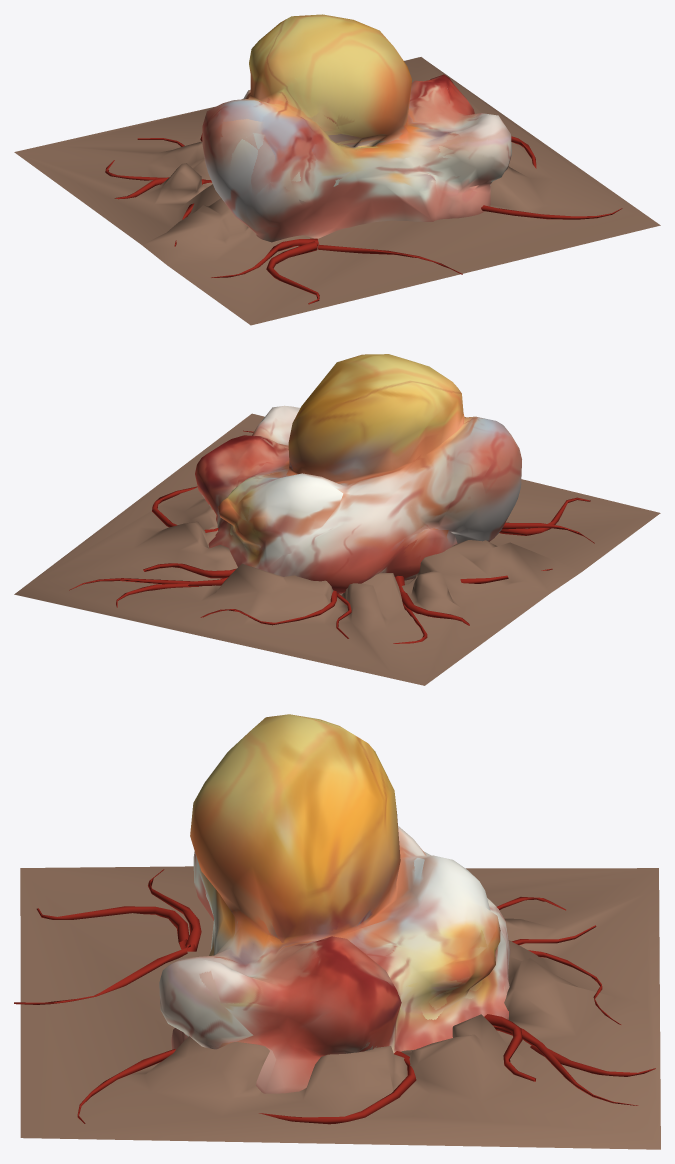
Rendered from bile-node.glb.
The picture shows the model from 3 angles, top to bottom: view 1: azimuth 30°, elevation 25°; view 2: azimuth 150°, elevation 25°; view 3: azimuth 270°, elevation 25°; orthographic projection. The views are drawn at different scales.
Visible parts, largest first — view 1: Yellow Bile Node (export); view 2: Yellow Bile Node (export); view 3: Yellow Bile Node (export).
Part boxes in pixels (x1=…): Yellow Bile Node (export): x1=14, y1=14, x2=660, y2=325; Yellow Bile Node (export): x1=14, y1=354, x2=660, y2=685; Yellow Bile Node (export): x1=14, y1=714, x2=660, y2=1149.
Size of the model in its own units: 0.9976 by 0.4514 by 1.
3 materials, 1 textured.
